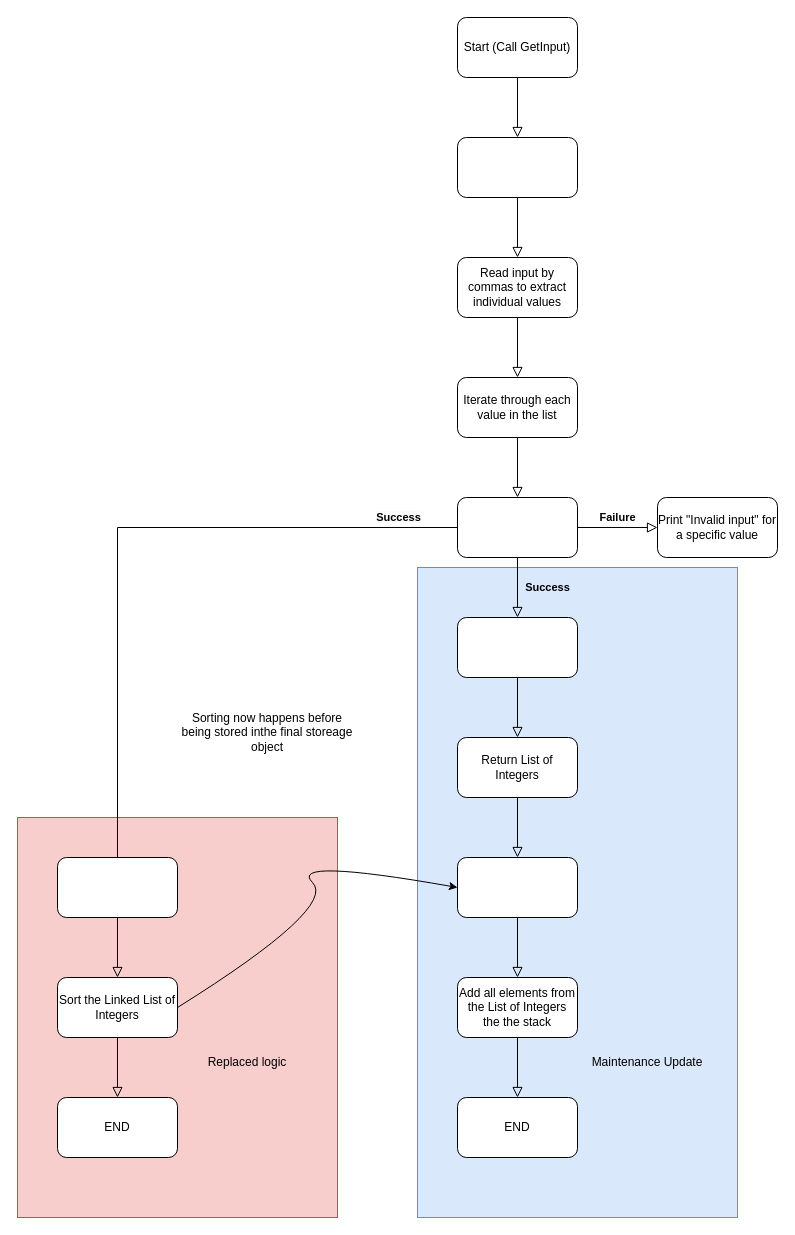
The diagram is 795 pixels wide and 1235 high, and some of its shapes have lost their labels. Here are the shapes that lost their labels. From the top down, the box of each, then its label:
(456, 136, 578, 198): Prompt user for input
(456, 496, 578, 558): Trim and attempt to parse values into and integer
(456, 616, 578, 678): Add valid integer to the list
(56, 856, 178, 918): Add all elements from the List of Integers to the Linked List
(456, 856, 578, 918): Sort the List of Integers
